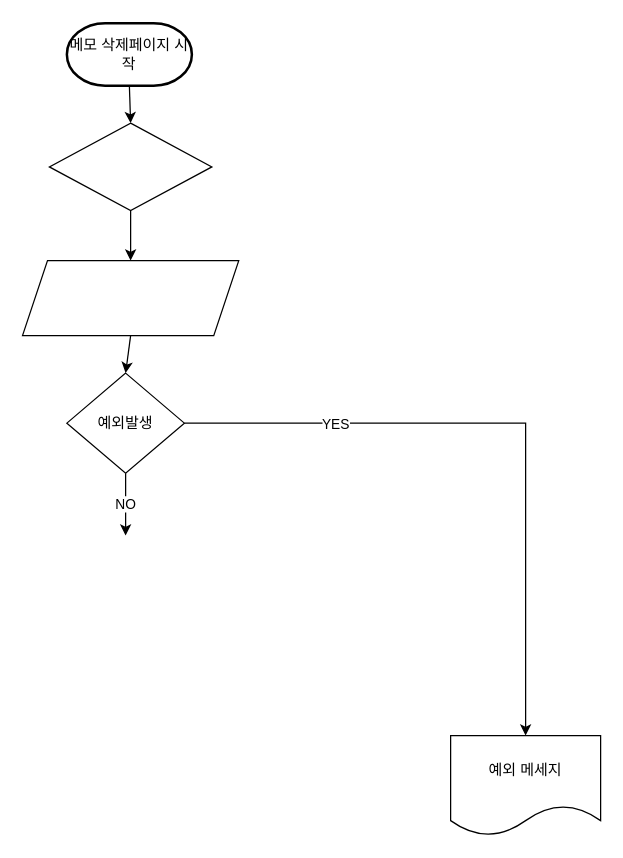
Image size: 623x858. Some labels were removed from this diagram. The shapes that lost their labels are listed below. From the top down, each one's centre as x and y in pixels, then its label:
pixel 130 166: 파라미터 존재
pixel 130 297: GET 파라미터 획득
